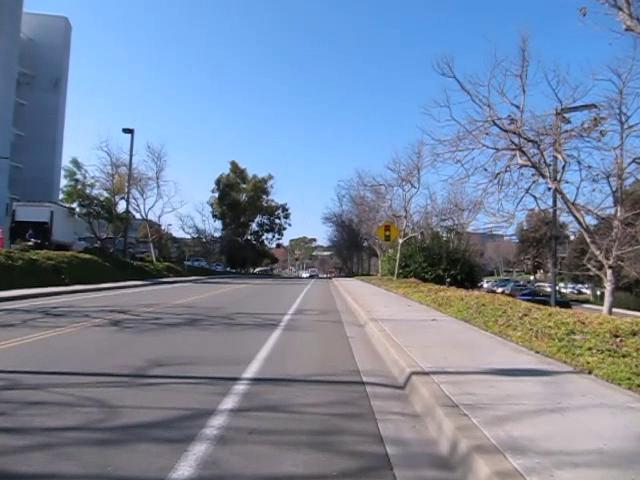signalAhead: (373, 218, 400, 247)
